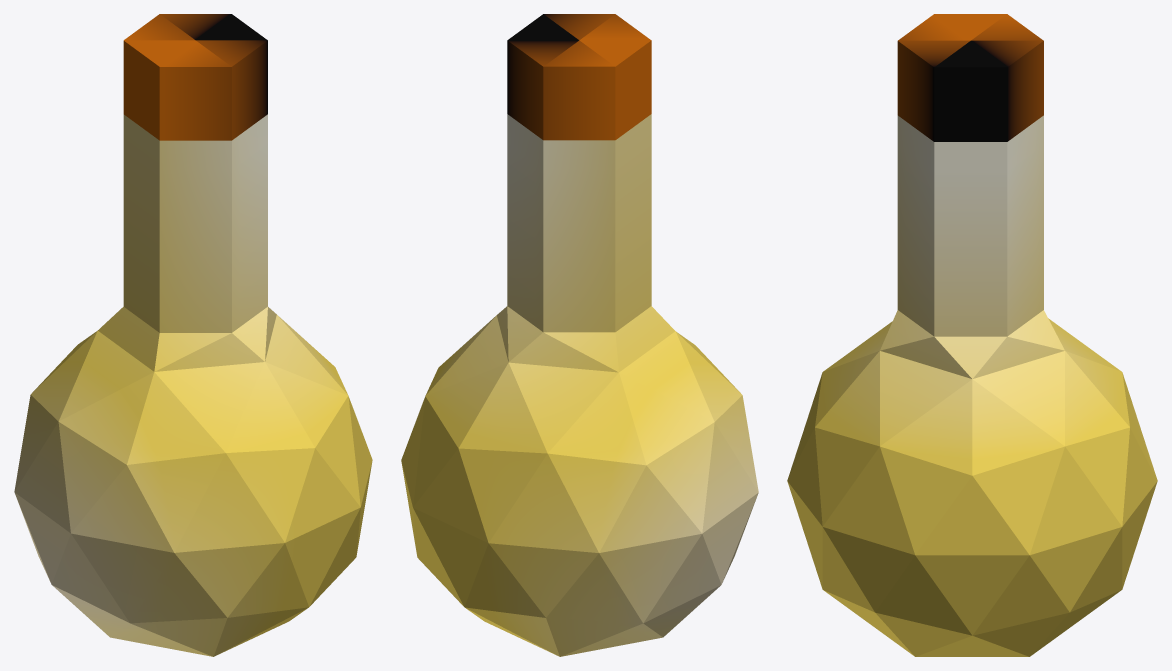
File: potions_340x05.obj
The picture shows the model from 3 angles, left to right: view 1: azimuth 30°, elevation 25°; view 2: azimuth 150°, elevation 25°; view 3: azimuth 270°, elevation 25°; orthographic projection.
Parts seen in each view (by area): view 1: potions_340x05; view 2: potions_340x05; view 3: potions_340x05.
Boxes of the visible parts, x1,y1,x2,y2 form: potions_340x05: (14,14,372,656); potions_340x05: (401,14,758,656); potions_340x05: (787,14,1157,656).
Bounding box in the file's own units: 0.497 × 0.9473 × 0.5225.
Materials: 1 (1 with a texture image).
